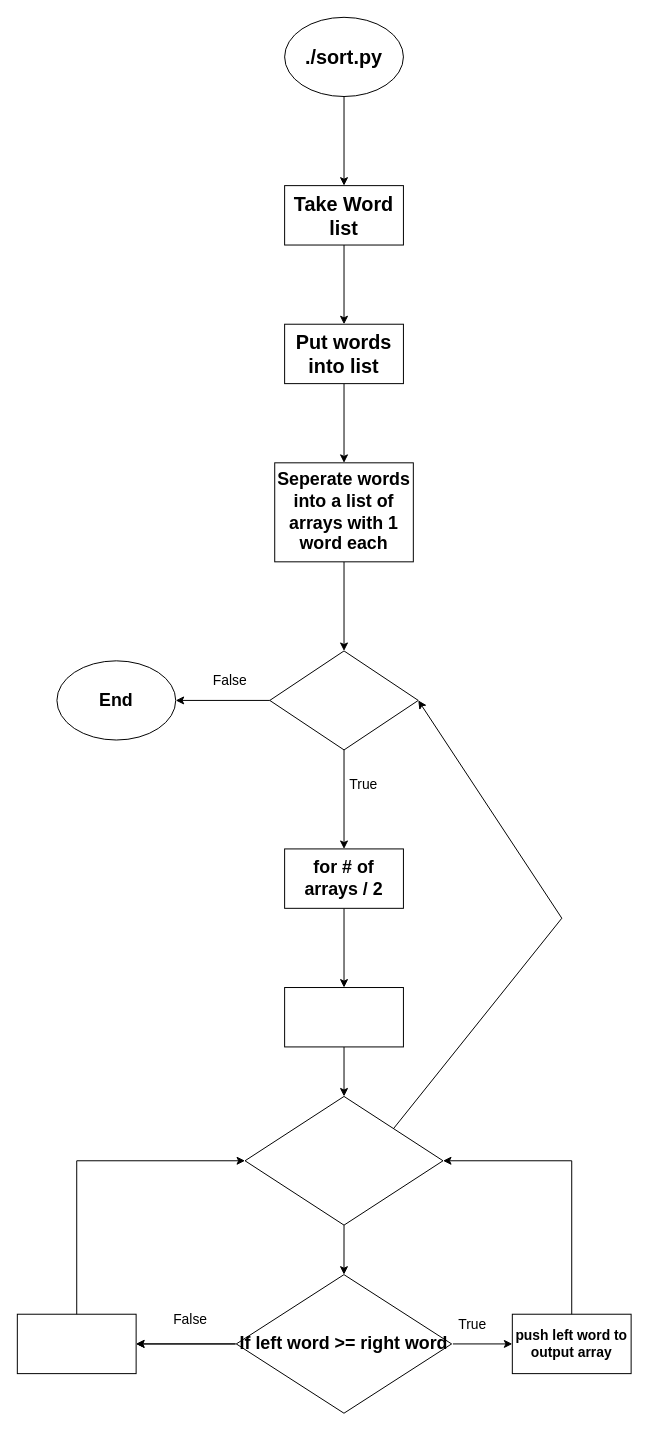
This 648x1431 diagram has some shape labels left out. The centre of each missing label's shape, as x and y in pixels:
compare next 2 arrays: point (343, 1017)
push right word to output array: point (76, 1343)
While # of arrays > 1: point (343, 700)
While left array and right array are not empty: point (343, 1160)
